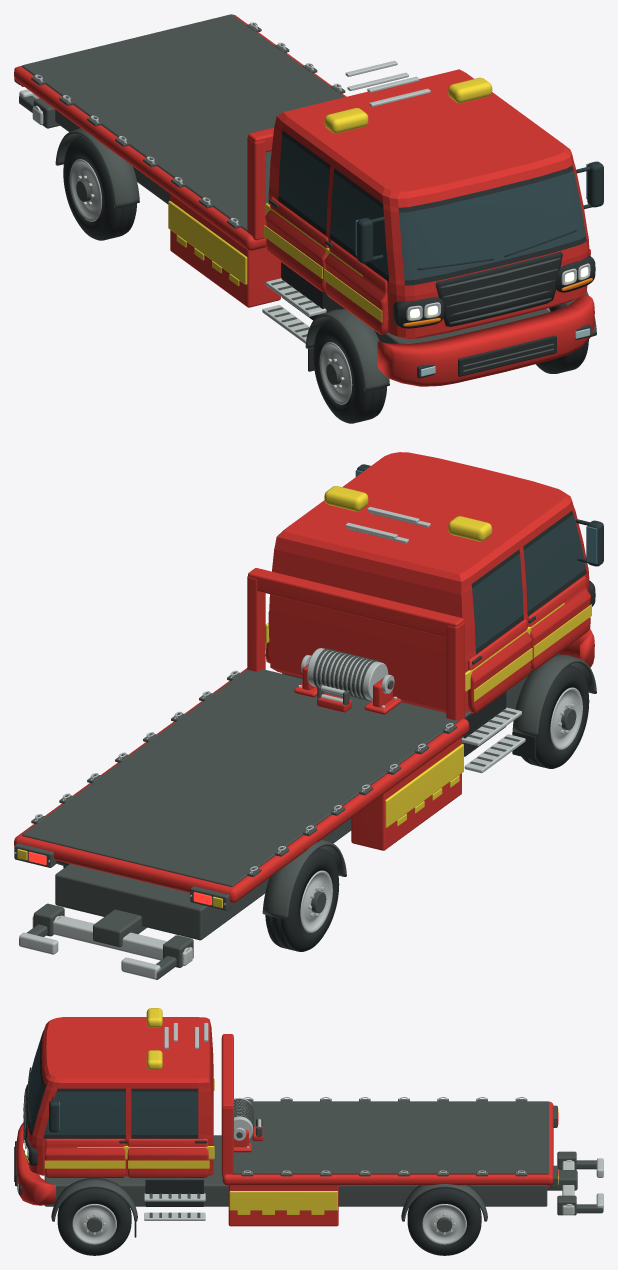
File: bargare.glb
The picture shows the model from 3 angles, top to bottom: view 1: azimuth 30°, elevation 25°; view 2: azimuth 150°, elevation 25°; view 3: azimuth 270°, elevation 25°; orthographic projection. The views are drawn at different scales.
Visible parts, largest first — view 1: Fire crew cab, Deck grip, Wraparound crew cab bumper, Tapered grille recess, Flatbed, Locker, All terrain tire, All terrain tire.002, Pressed crew door panel, Pressed crew door panel.001, Wheel arch moulding, Yellow livery (+18 smaller); view 2: Fire crew cab, Deck grip, Chassis, Flatbed, Headboard crossbeam, Locker, All terrain tire.002, Pressed crew door panel.001, Pressed crew door panel, All terrain tire, Wheel arch moulding, Yellow livery (+16 smaller); view 3: Deck grip, Fire crew cab, Chassis, Flatbed, All terrain tire.001, All terrain tire.003, Pressed crew door panel.002, Pressed crew door panel.003, Locker.001, Yellow livery.001, Wraparound crew cab bumper, Alloy wheel dish.001 (+12 smaller).
Boxes of the visible parts, x1,y1,x2,y2 form: Fire crew cab: (268, 69, 589, 339); Deck grip: (22, 14, 344, 231); Wraparound crew cab bumper: (377, 294, 594, 386); Tapered grille recess: (435, 251, 562, 326); Flatbed: (14, 14, 346, 250); Locker: (170, 194, 280, 307); All terrain tire: (313, 320, 386, 423); All terrain tire.002: (63, 137, 136, 240); Pressed crew door panel: (324, 240, 388, 334); Pressed crew door panel.001: (265, 196, 328, 291); Wheel arch moulding: (305, 309, 389, 391); Yellow livery: (168, 201, 247, 284); Fire crew cab: (268, 452, 589, 712); Deck grip: (22, 669, 457, 886); Chassis: (55, 652, 559, 940); Flatbed: (14, 668, 469, 902); Headboard crossbeam: (248, 568, 463, 636); Locker: (351, 737, 461, 850); All terrain tire.002: (265, 848, 339, 951); Pressed crew door panel.001: (468, 619, 532, 713); Pressed crew door panel: (528, 576, 590, 670); All terrain tire: (522, 665, 589, 768); Wheel arch moulding: (512, 654, 596, 736); Yellow livery: (385, 744, 463, 827); Deck grip: (232, 1101, 548, 1174); Fire crew cab: (26, 1017, 213, 1176); Chassis: (44, 1135, 547, 1206); Flatbed: (222, 1101, 553, 1185); All terrain tire.001: (57, 1188, 131, 1255); All terrain tire.003: (407, 1188, 481, 1255); Pressed crew door panel.002: (45, 1139, 125, 1177); Pressed crew door panel.003: (127, 1138, 208, 1177); Locker.001: (228, 1185, 338, 1226); Yellow livery.001: (229, 1191, 337, 1210); Wraparound crew cab bumper: (16, 1123, 55, 1205); Alloy wheel dish.001: (72, 1204, 116, 1244).
Size of the model in its own units: 2.72 by 2.85 by 8.14.
